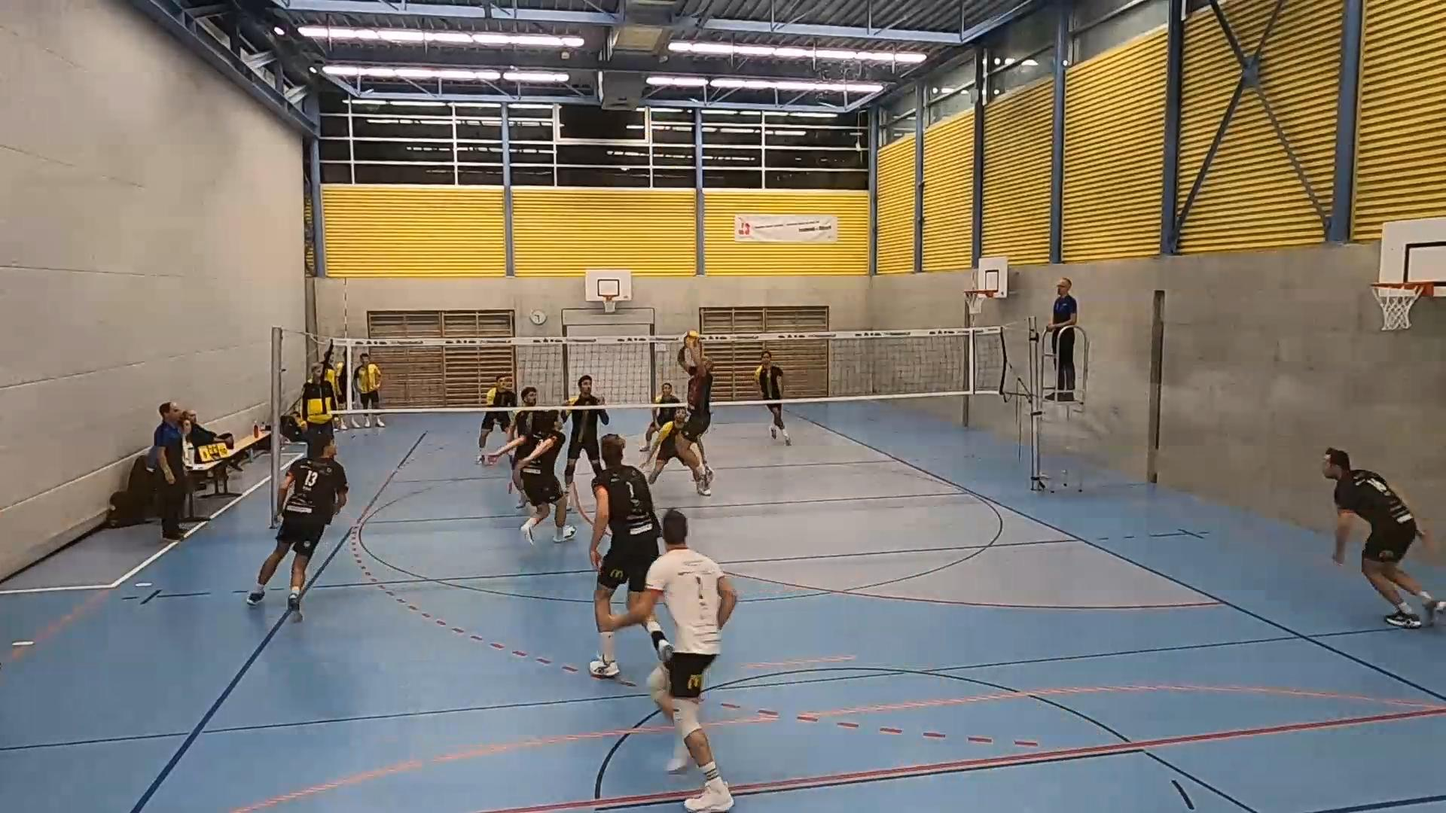alzata: (675, 342, 721, 499)
